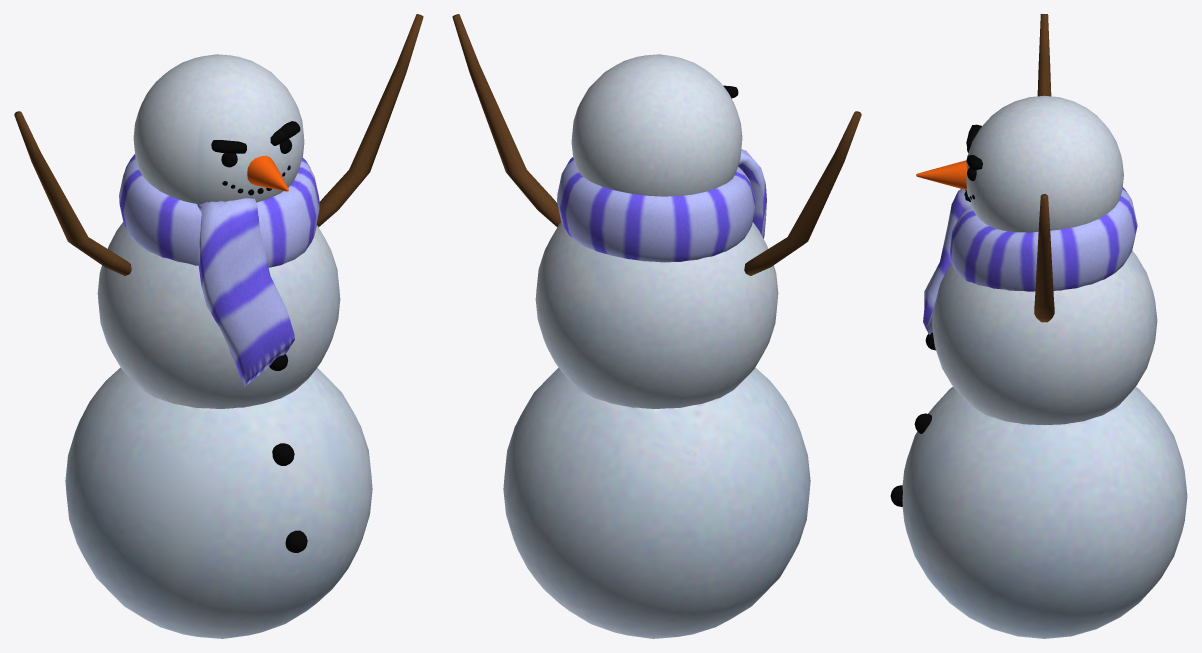
Rendered from snowman.gltf.
3 renders of one model, left to right at view 1: azimuth 30°, elevation 25°; view 2: azimuth 150°, elevation 25°; view 3: azimuth 270°, elevation 25°, orthographic. The views are drawn at different scales.
Visible parts, largest first — view 1: Snowman; view 2: Snowman; view 3: Snowman.
Part boxes in pixels (x1,y1,x2,y2): Snowman: (14, 14, 423, 638); Snowman: (452, 14, 861, 638); Snowman: (890, 14, 1187, 638).
Size of the model in its own units: 4.36 by 5.74 by 2.96.
1 material, 1 textured.
